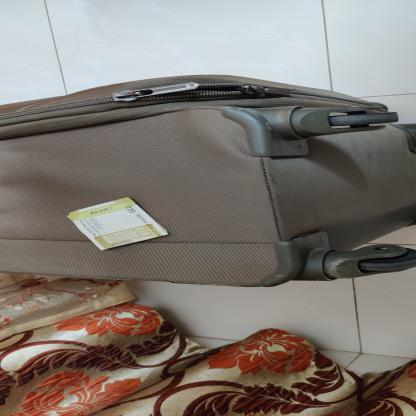New20Back: (64, 195, 172, 252)
